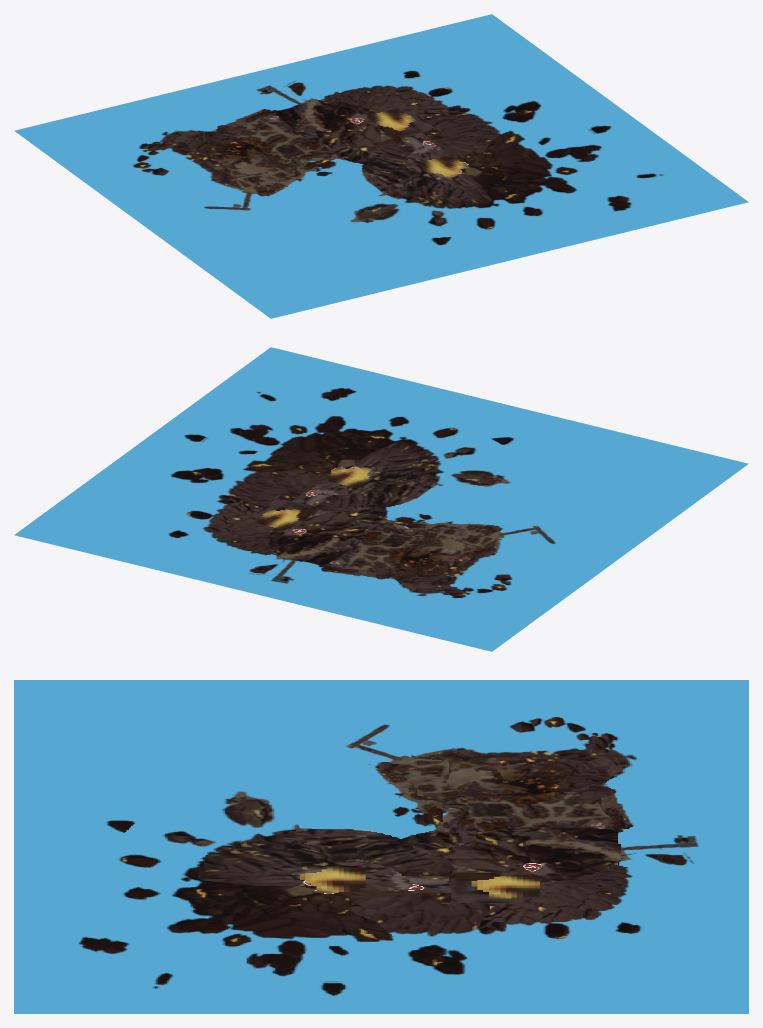
Rendered from island2underground.fbx.
The picture shows the model from 3 angles, top to bottom: view 1: azimuth 30°, elevation 25°; view 2: azimuth 150°, elevation 25°; view 3: azimuth 270°, elevation 25°; orthographic projection. The views are drawn at different scales.
Parts seen in each view (by area): view 1: island map; view 2: island map; view 3: island map.
Boxes of the visible parts, x1,y1,x2,y2 form: island map: [14, 14, 748, 318]; island map: [14, 347, 748, 651]; island map: [14, 680, 748, 1013].
Size of the model in its own units: 50000 by 2976 by 46544.
